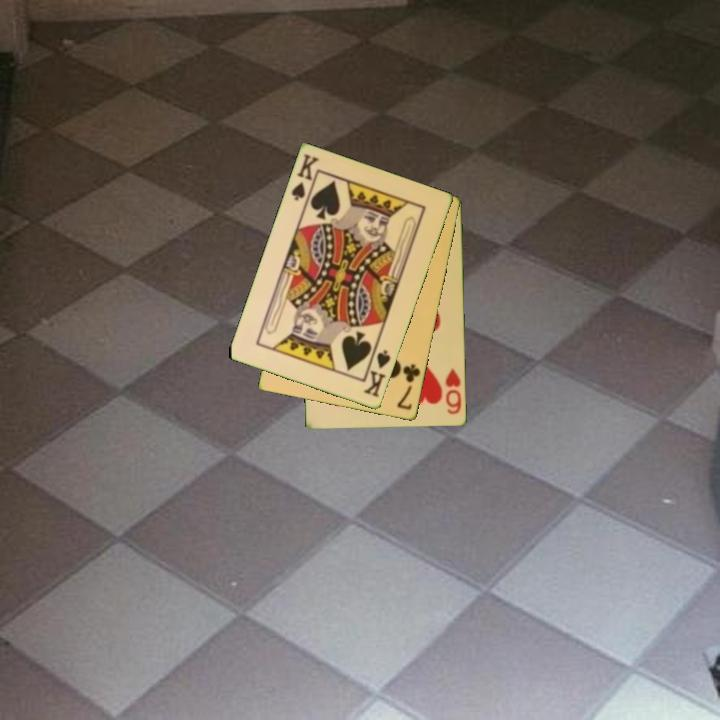6h: (442, 365, 464, 417)
7c: (394, 361, 423, 413)
Ks: (288, 151, 322, 208), (360, 344, 394, 400)
